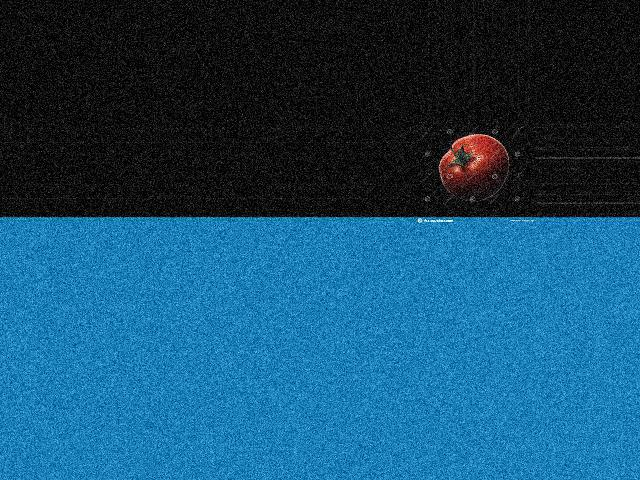tomato: (439, 134, 510, 201)
